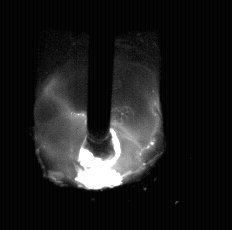arame: (86, 0, 113, 159)
poca: (33, 0, 166, 230)
